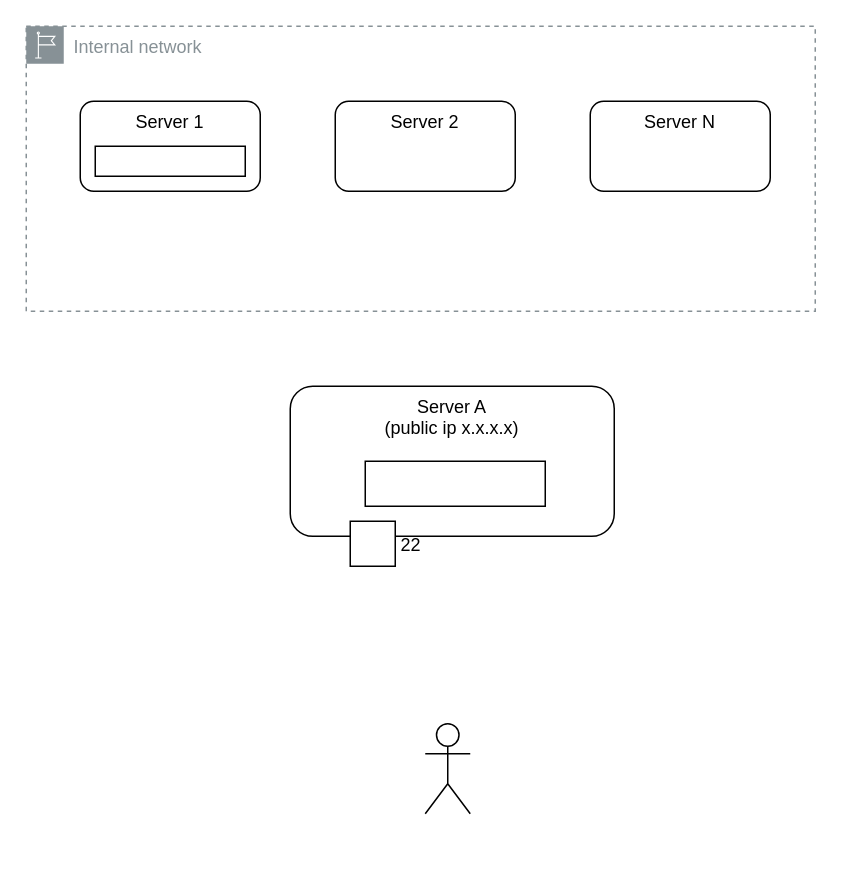
Image size: 842x872. Some labels were removed from this diagram. Here are the shapes that lost their labels. From the top down, the centre of each, then its label:
point (169, 160): OpenRPC
point (454, 483): OpenRPS
point (447, 768): Actor
